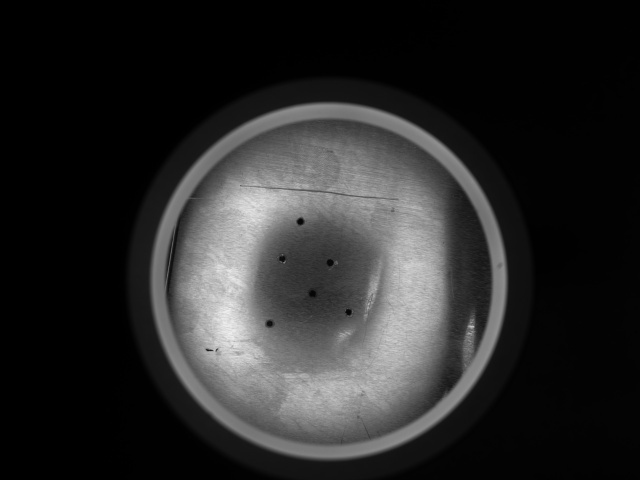ca_shang: (233, 166, 397, 216)
zhen_kong: (267, 244, 298, 274), (255, 310, 284, 339), (286, 208, 314, 235), (300, 280, 326, 308), (314, 249, 344, 273), (337, 300, 362, 325)
